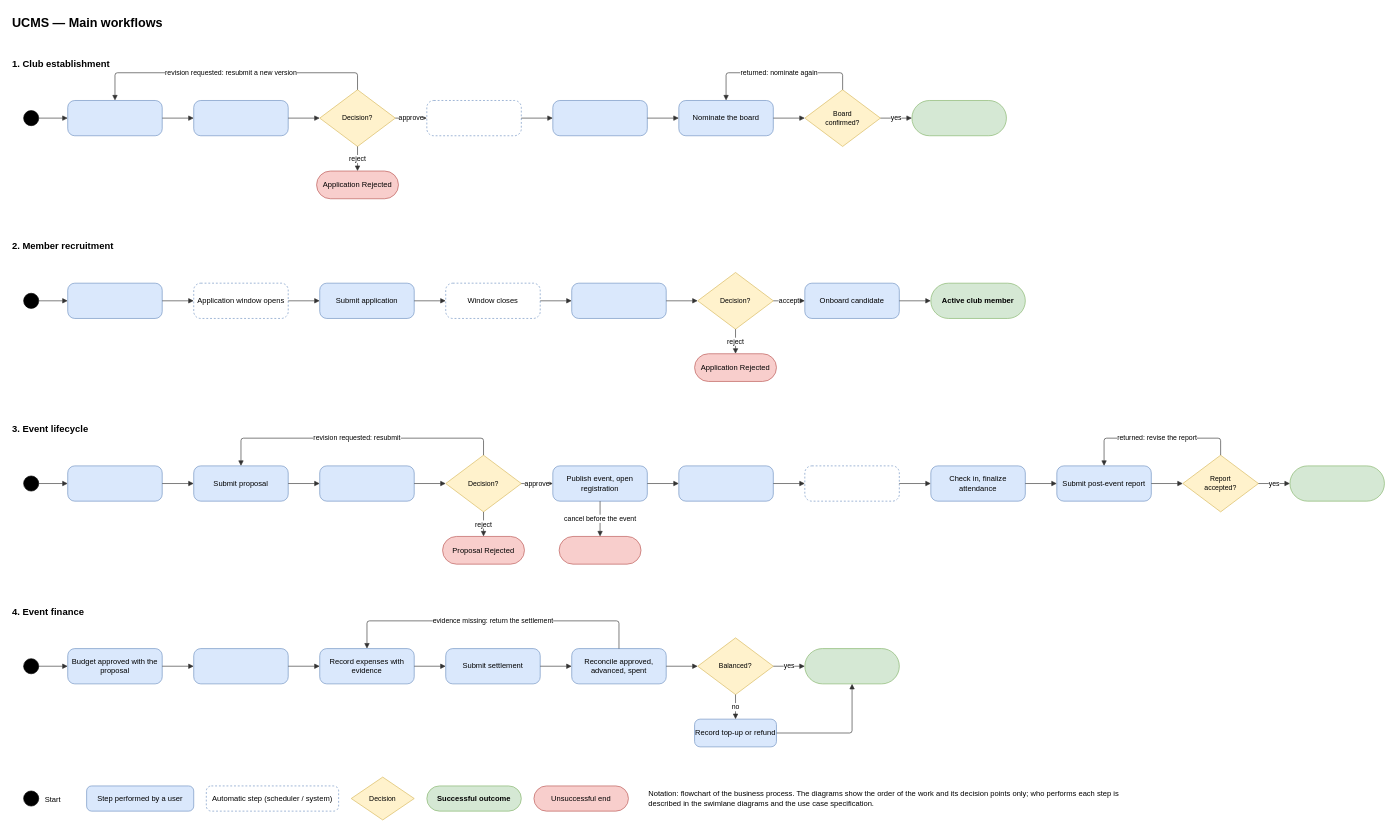
Some shapes in this 1395 by 831 pixel diagram are drawn without their labels. The centre of each missing label's shape, as x and y in pixels:
"Budget Closed" belongs at (851,666).
"Club Active" belongs at (958,118).
"Club created (Pending Setup)" belongs at (473,118).
"Configure club profile" belongs at (599,118).
"Create and publish campaign" belongs at (114,300).
"Create proposal with budget" belongs at (114,483).
"Event Cancelled" belongs at (599,550).
"Event Closed" belongs at (1336,483).
"Event starts and ends" belongs at (851,483).
"Record the advance" belongs at (240,666).
"Register (waitlist when full)" belongs at (725,483).
"Review application" belongs at (240,118).
"Review proposal" belongs at (366,483).
"Screen and evaluate candidates" belongs at (618,300).
"Submit founding application" belongs at (114,118).
